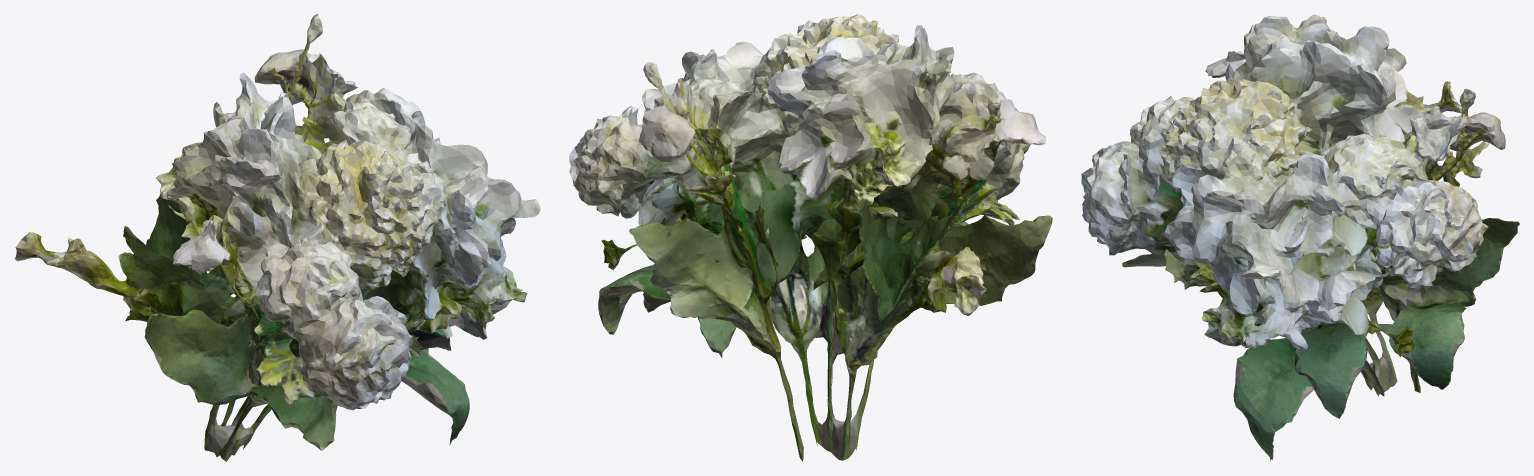
Rendered from dried_flowers.glb.
3 views of the same model, side by side, from view 1: azimuth 30°, elevation 25°; view 2: azimuth 150°, elevation 25°; view 3: azimuth 270°, elevation 25° (orthographic). The views are drawn at different scales.
Size of the model in its own units: 0.2211 by 0.1888 by 0.2019.
1 material, 1 textured.
